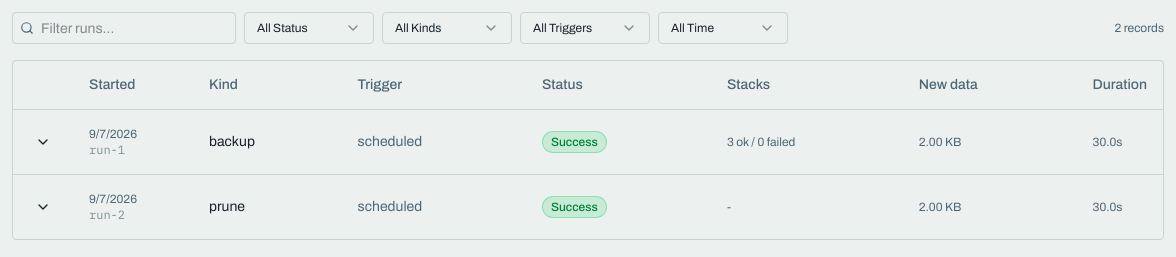
it: BackupHistoryTab — the filters › filters the fetched page client-side on the free-text box
In the field with placeholder "Filter runs…": point(124, 28) [12,12,236,44], type "prune"
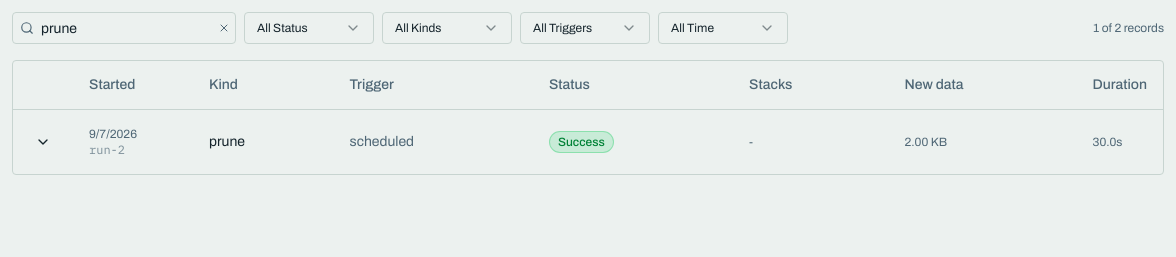
Check: the text "run-2" is shown, box [89,142,125,156]
Check: the text "run-1" is gone
Check: the text "1 of 2 records" is shown, box [1093,20,1164,36]
